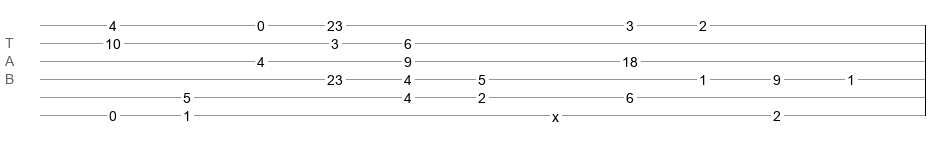0: (109, 108, 117, 118), (257, 18, 265, 28)
1: (183, 108, 191, 118), (699, 72, 707, 82), (847, 72, 855, 82)
10: (105, 36, 121, 46)
18: (622, 54, 638, 64)
2: (478, 90, 486, 100), (699, 18, 707, 28), (773, 108, 781, 118)
23: (327, 72, 343, 82), (327, 18, 343, 28)
3: (331, 36, 339, 46), (626, 18, 634, 28)
4: (109, 18, 117, 28), (257, 54, 265, 64), (404, 72, 412, 82), (404, 90, 412, 100)
5: (183, 90, 191, 100), (478, 72, 486, 82)
6: (404, 36, 412, 46), (626, 90, 634, 100)
9: (404, 54, 412, 64), (773, 72, 781, 82)
x: (552, 109, 559, 117)
